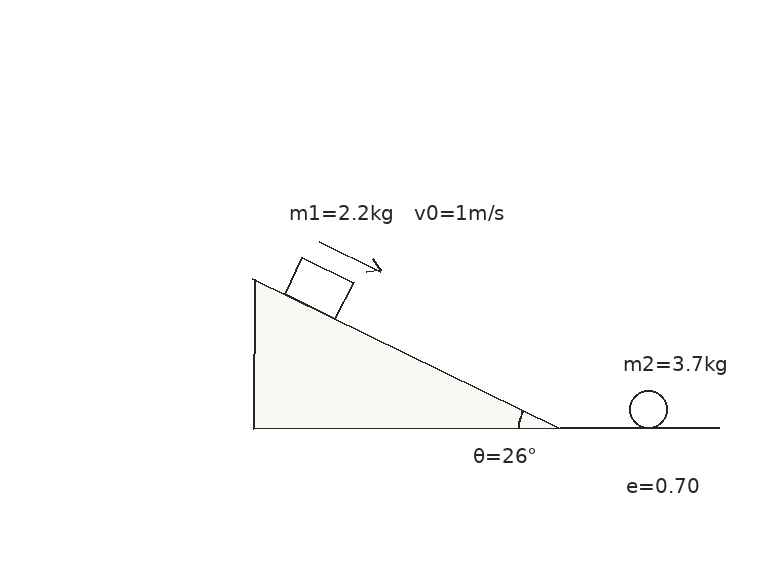ball: (627, 388, 669, 430)
block: (283, 256, 355, 321)
ramp: (252, 277, 561, 430)
